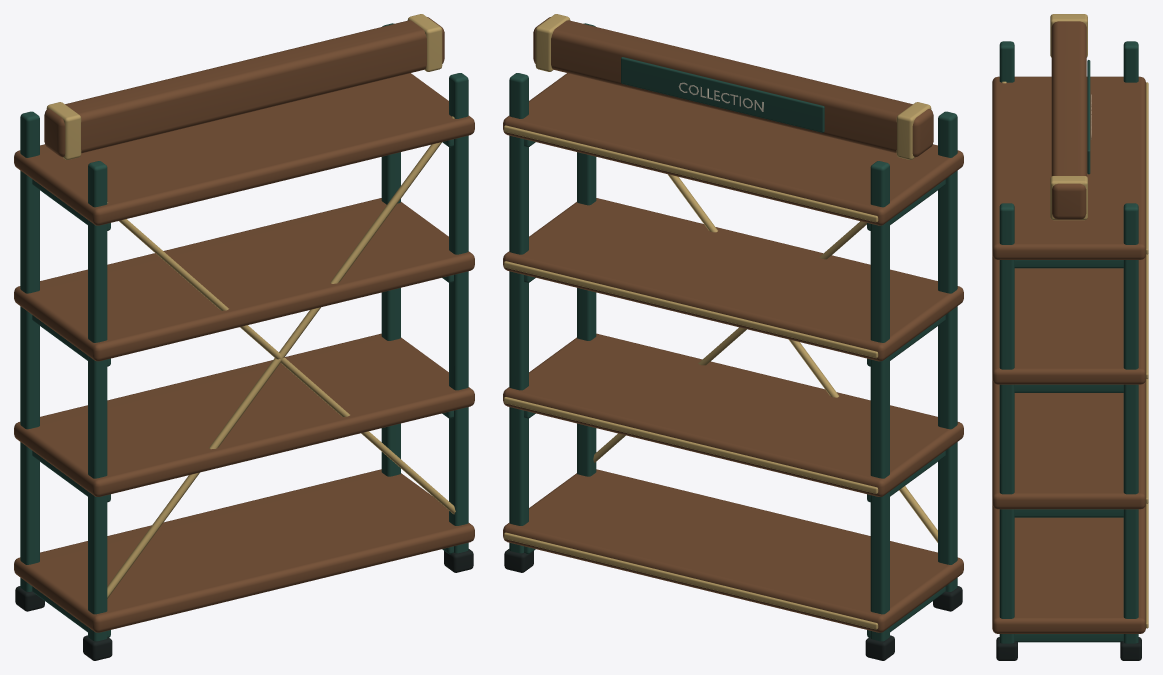
File: GJH_DSP_001.glb
The picture shows the model from 3 angles, left to right: view 1: azimuth 30°, elevation 25°; view 2: azimuth 150°, elevation 25°; view 3: azimuth 270°, elevation 25°; orthographic projection. The views are drawn at different scales.
Parts seen in each view (by area): view 1: GJH-DSP-001_VISUAL; view 2: GJH-DSP-001_VISUAL; view 3: GJH-DSP-001_VISUAL.
Part boxes in pixels (bbox=[...]): GJH-DSP-001_VISUAL: bbox=[14, 14, 474, 660]; GJH-DSP-001_VISUAL: bbox=[503, 14, 963, 660]; GJH-DSP-001_VISUAL: bbox=[992, 14, 1148, 660].
Size of the model in its own units: 1.52 by 1.96 by 0.58.
